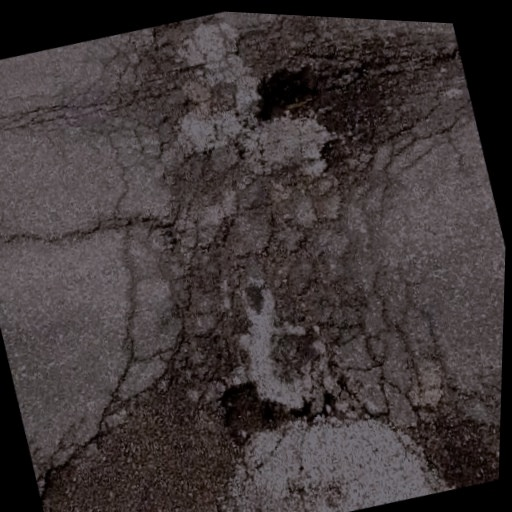pothole: (245, 53, 329, 131), (211, 370, 283, 453)
